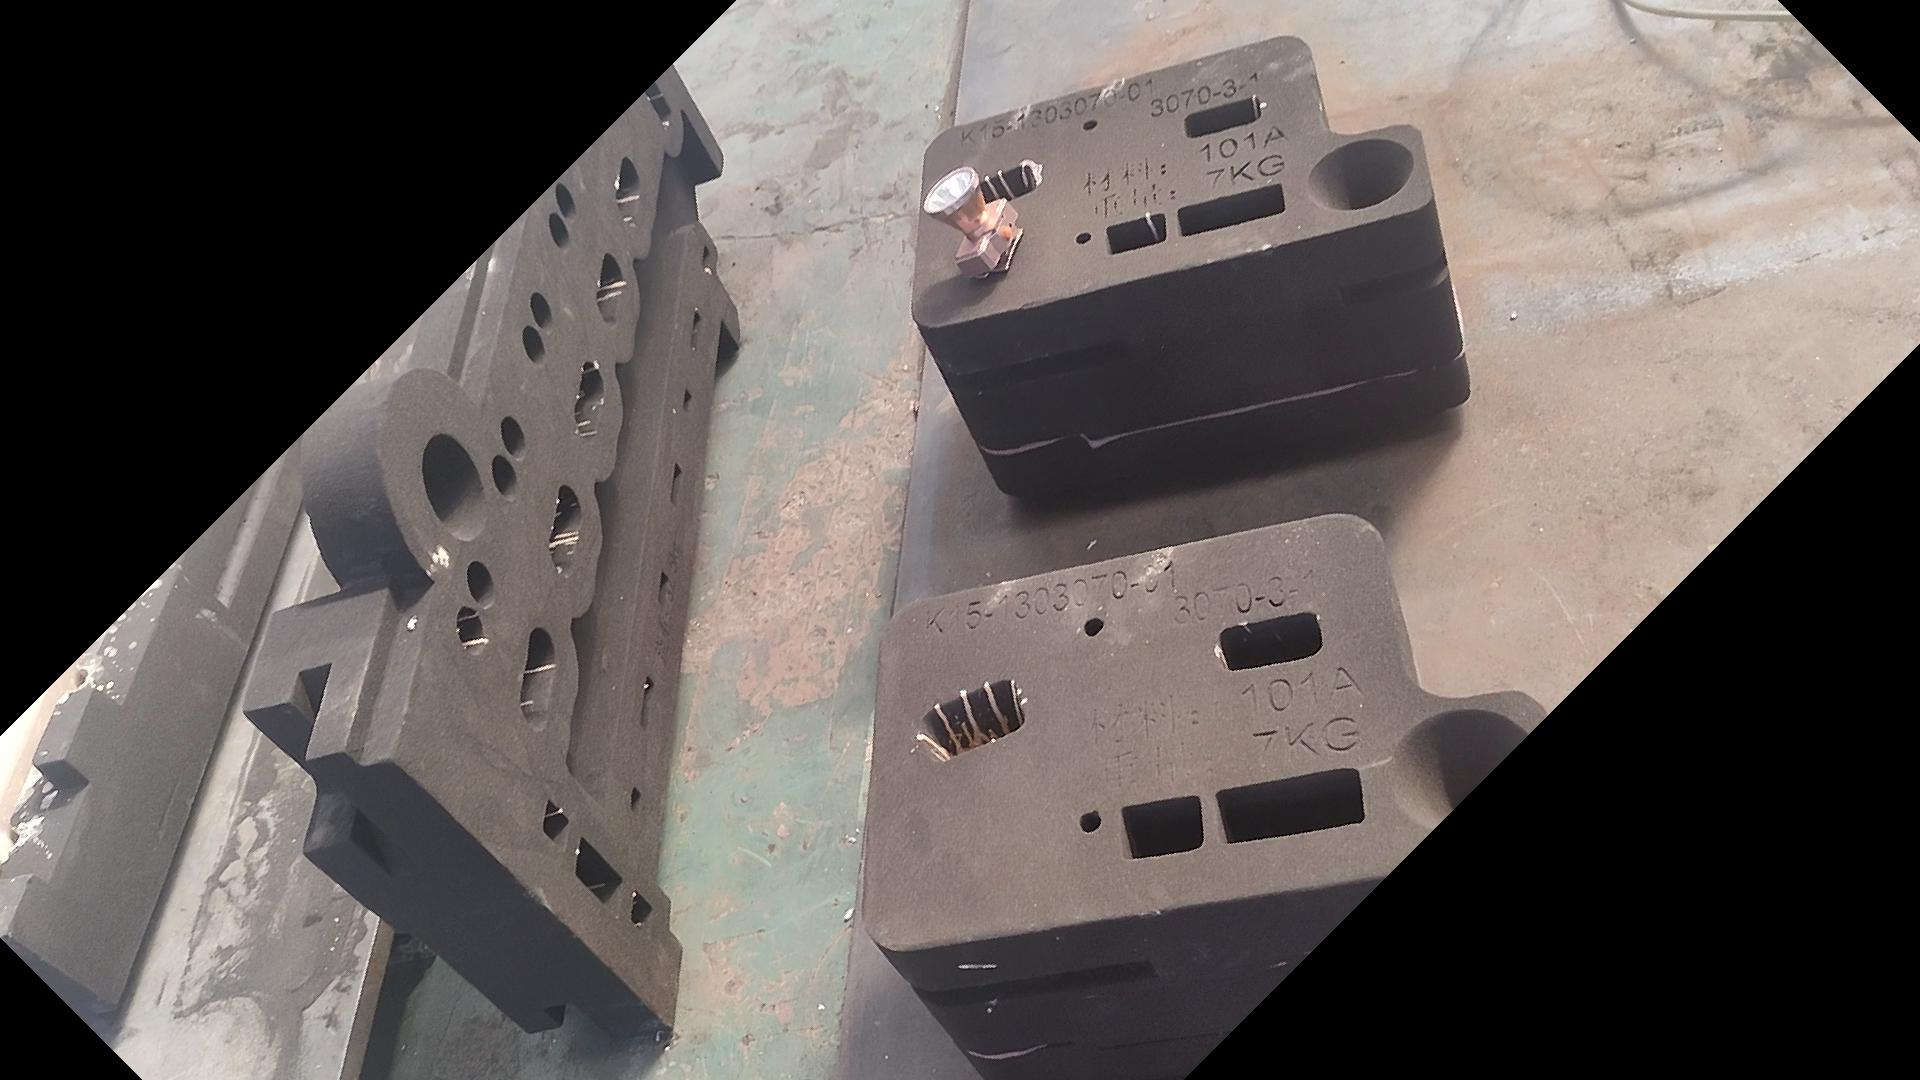pouring hole: (1389, 708, 1538, 831), (1307, 138, 1415, 211), (421, 433, 487, 542)
